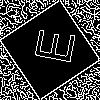E: (25, 25, 76, 66)
